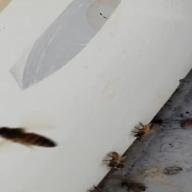Bee: (0, 122, 72, 155), (100, 146, 136, 171), (132, 119, 152, 140)
